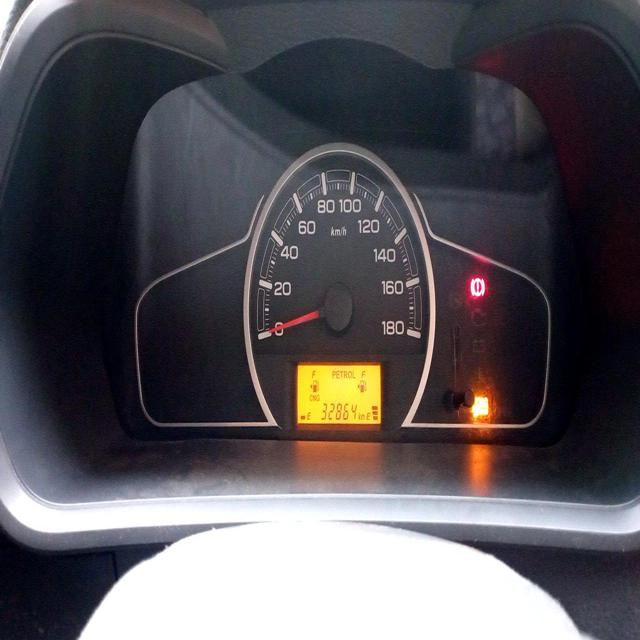odometer: (319, 398, 358, 423)
